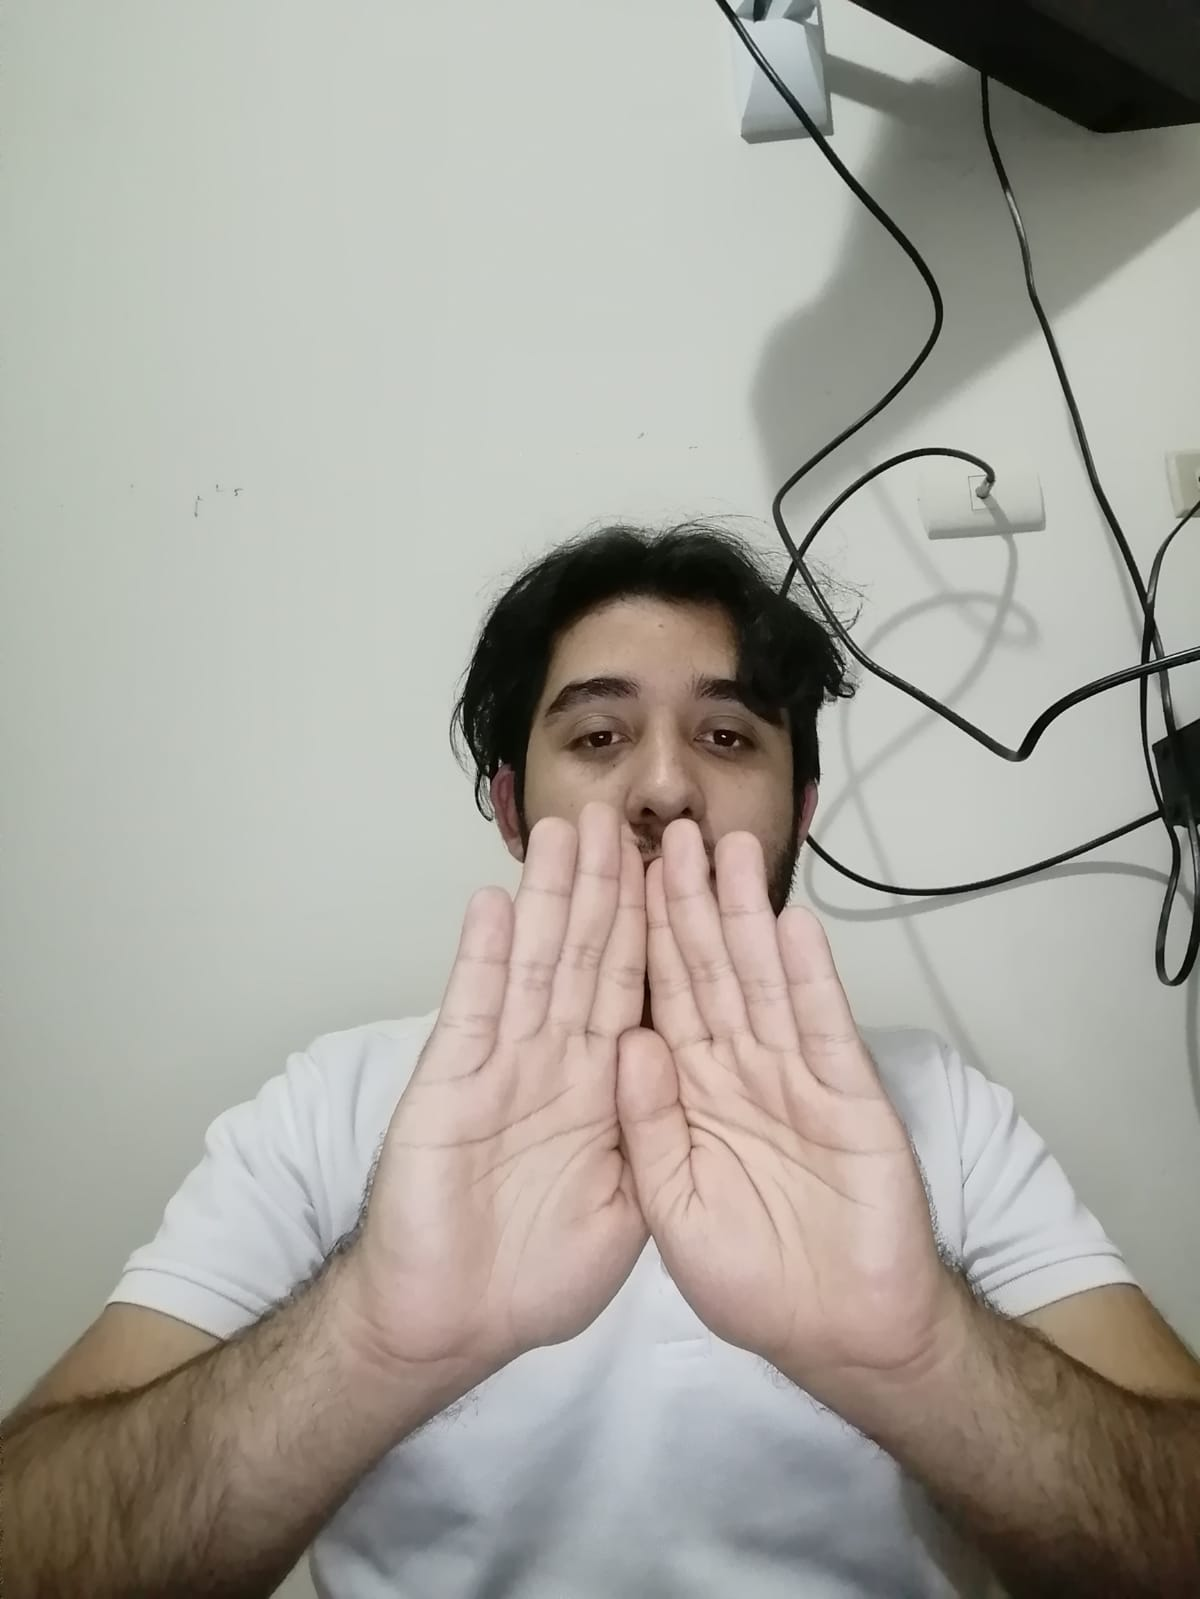Door: (361, 793, 952, 1429)
